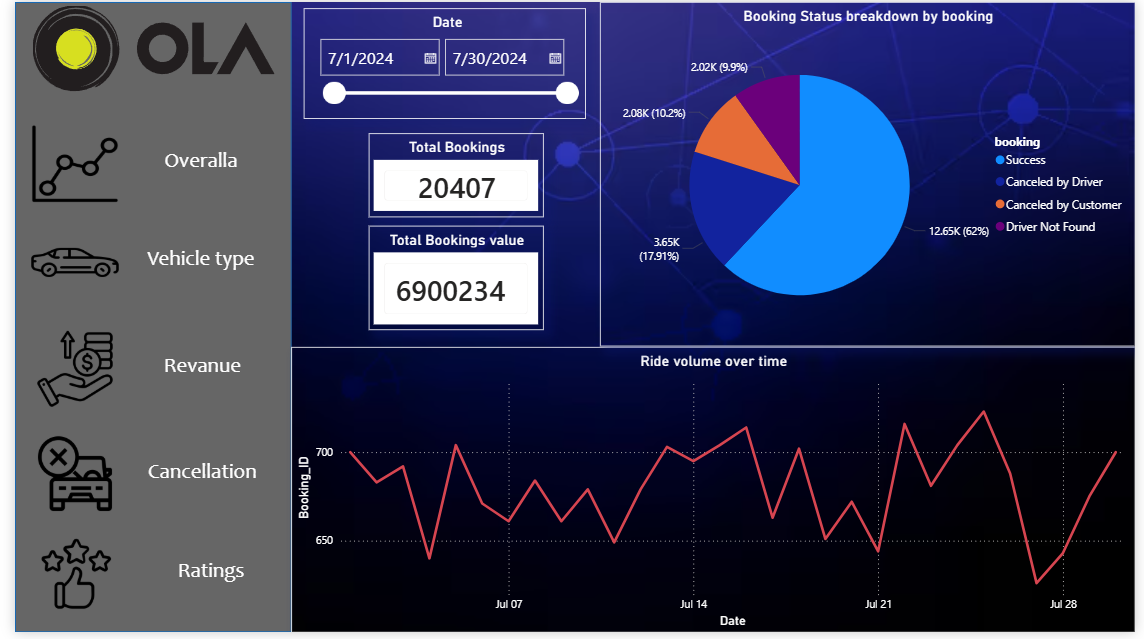

What the dashboard file says about the page in this screenshot:
{"tool":"powerbi","page":{"name":"Overalla","canvas":[1280,720],"ordinal":0},"visuals":[{"type":"shape","box":[0,0,316.1,720.2],"z":0},{"type":"image","box":[0,0,317,107],"z":1000},{"type":"image","box":[18.1,139.9,100.1,89.3],"z":2000},{"type":"textbox","box":[130.3,160.5,165.3,49.5],"z":3000},{"type":"image","box":[18.1,252.1,100.1,89.3],"z":4000},{"type":"image","box":[18.1,374,100.1,89.3],"z":5000},{"type":"image","box":[18.1,494.6,100.1,89.3],"z":6000},{"type":"image","box":[19.3,608,100.1,89.3],"z":7000},{"type":"textbox","box":[130.3,272.7,165.3,49.5],"z":8000},{"type":"textbox","box":[131.5,394.5,165.3,49.5],"z":9000},{"type":"textbox","box":[131.5,515.2,165.3,49.5],"z":10000},{"type":"textbox","box":[141.2,628.6,165.3,49.5],"z":11000},{"type":"actionButton","box":[0,252.5,317,102.9],"z":12000},{"type":"actionButton","box":[0,133.1,317,102.9],"z":13000},{"type":"actionButton","box":[0,360.9,317,102.9],"z":14000},{"type":"actionButton","box":[0,487.1,317,102.9],"z":15000},{"type":"actionButton","box":[0,601,317,102.9],"z":16000},{"type":"lineChart","title":"Ride volume over time","fields":{"Category":["Sheet1.Date"],"Y":["CountNonNull(Sheet1.Booking_ID)"]},"box":[315.6,393.8,964.7,326.6],"z":17000},{"type":"pieChart","fields":{"Y":["CountNonNull(Sheet1.Booking_Status)"],"Category":["Sheet1.Booking_Status"]},"box":[668.3,0,612,393.8],"z":18000},{"type":"slicer","title":"Date","fields":{"Values":["Sheet1.Date"]},"box":[330.7,6.9,322.5,126.2],"z":19000},{"type":"cardVisual","title":"Total Bookings","fields":{"Data":["CountNonNull(Sheet1.Booking_ID)"]},"box":[404.8,149.6,200.3,96.1],"z":20000},{"type":"cardVisual","title":"Total Bookings value","fields":{"Data":["Sum(Sheet1.Booking_Value)"]},"box":[404.8,255.2,200.3,119.4],"z":21000}]}

Visuals, with their boxes in screenshot pixels (x1, y1, x2, y2), scaled from the page's 1280x720 canvas onto the 1144x639 screenshot:
shape: [left=0, top=0, right=283, bottom=638]
image: [left=0, top=0, right=283, bottom=95]
image: [left=16, top=124, right=106, bottom=203]
textbox: [left=116, top=142, right=264, bottom=186]
image: [left=16, top=224, right=106, bottom=303]
image: [left=16, top=332, right=106, bottom=411]
image: [left=16, top=439, right=106, bottom=518]
image: [left=17, top=540, right=107, bottom=619]
textbox: [left=116, top=242, right=264, bottom=286]
textbox: [left=118, top=350, right=265, bottom=394]
textbox: [left=118, top=457, right=265, bottom=501]
textbox: [left=126, top=558, right=274, bottom=602]
actionButton: [left=0, top=224, right=283, bottom=315]
actionButton: [left=0, top=118, right=283, bottom=209]
actionButton: [left=0, top=320, right=283, bottom=412]
actionButton: [left=0, top=432, right=283, bottom=524]
actionButton: [left=0, top=533, right=283, bottom=625]
"Ride volume over time" lineChart: [left=282, top=349, right=1143, bottom=638]
pieChart - CountNonNull(Sheet1.Booking_Status) x Sheet1.Booking_Status: [left=597, top=0, right=1143, bottom=349]
"Date" slicer: [left=296, top=6, right=584, bottom=118]
"Total Bookings" cardVisual: [left=362, top=133, right=541, bottom=218]
"Total Bookings value" cardVisual: [left=362, top=226, right=541, bottom=332]
